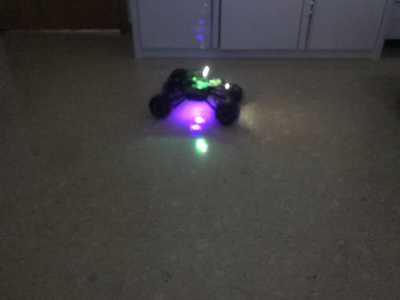remote control car: (146, 63, 246, 127)
